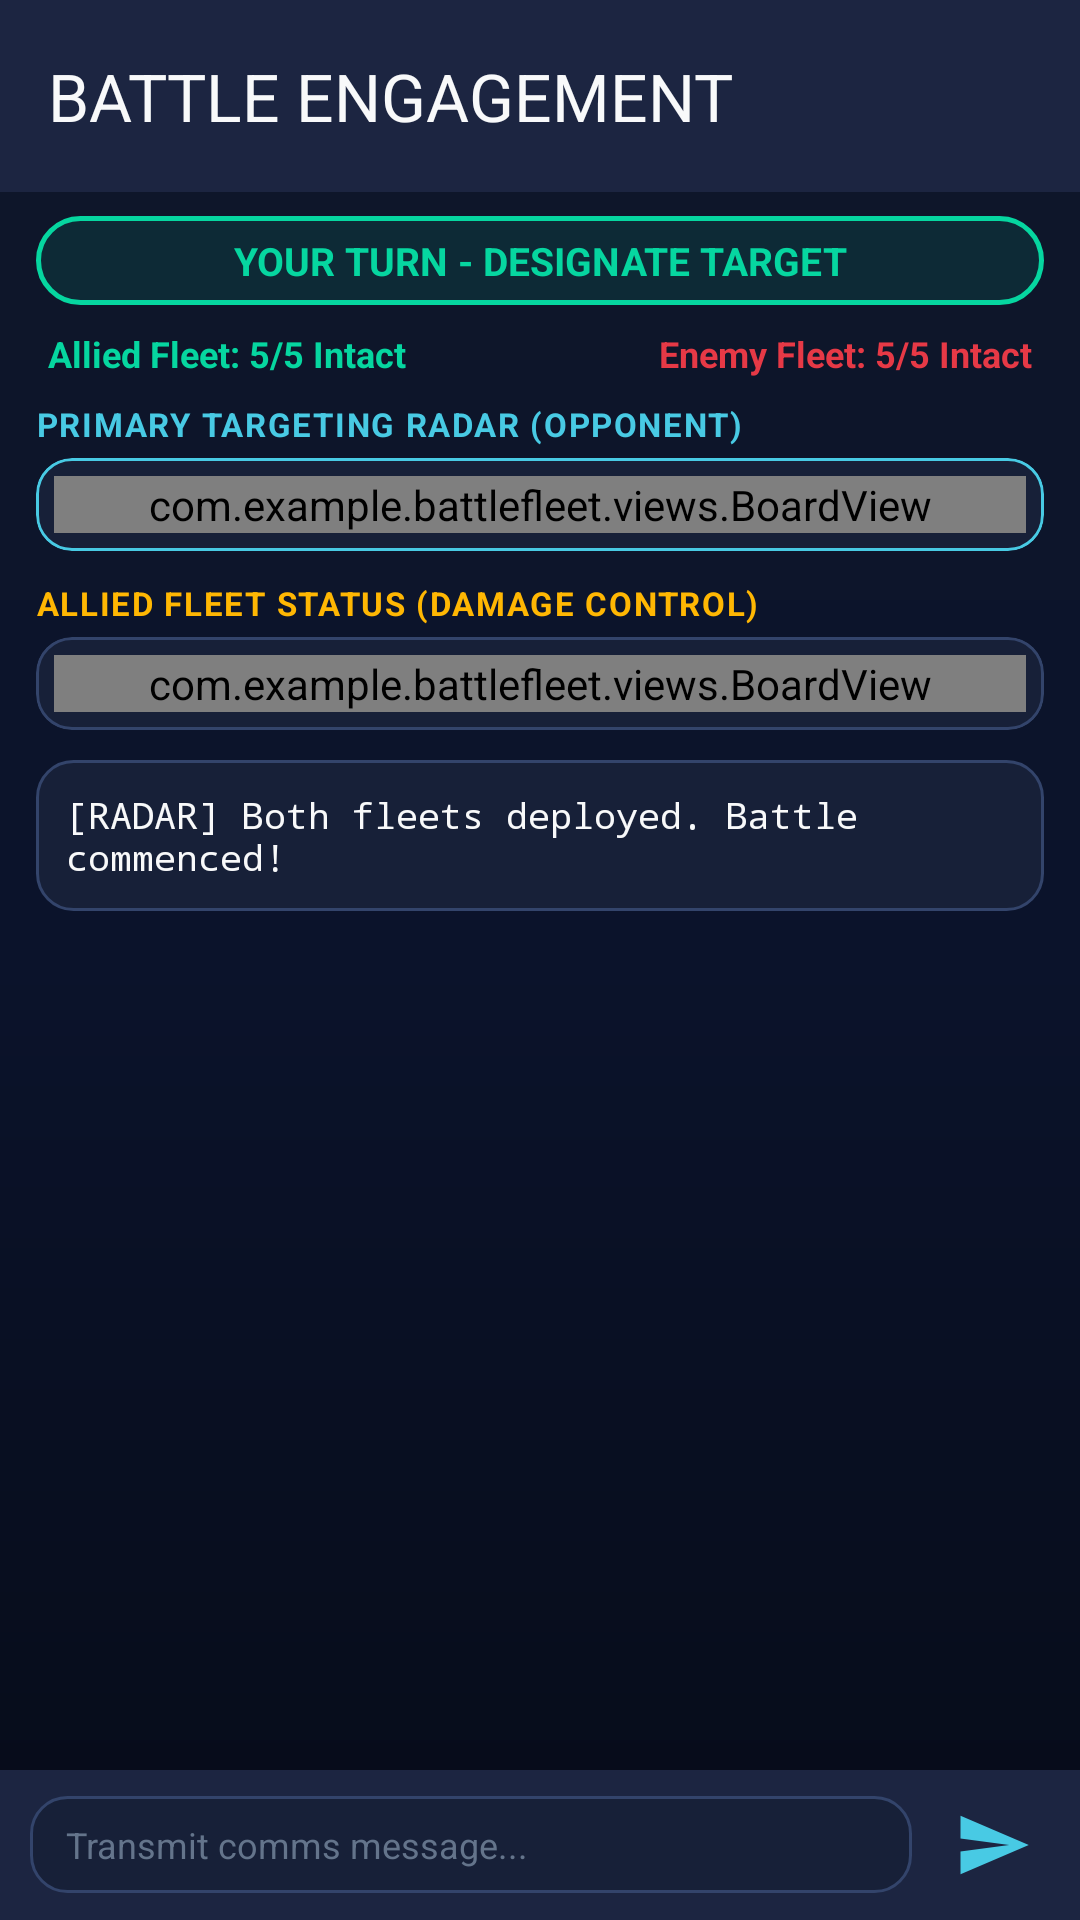

Screen size 1080px×1920px. Icon name, then its box in pixels as (x1, y1, x2, y2):
send: (960, 1816, 1028, 1874)
